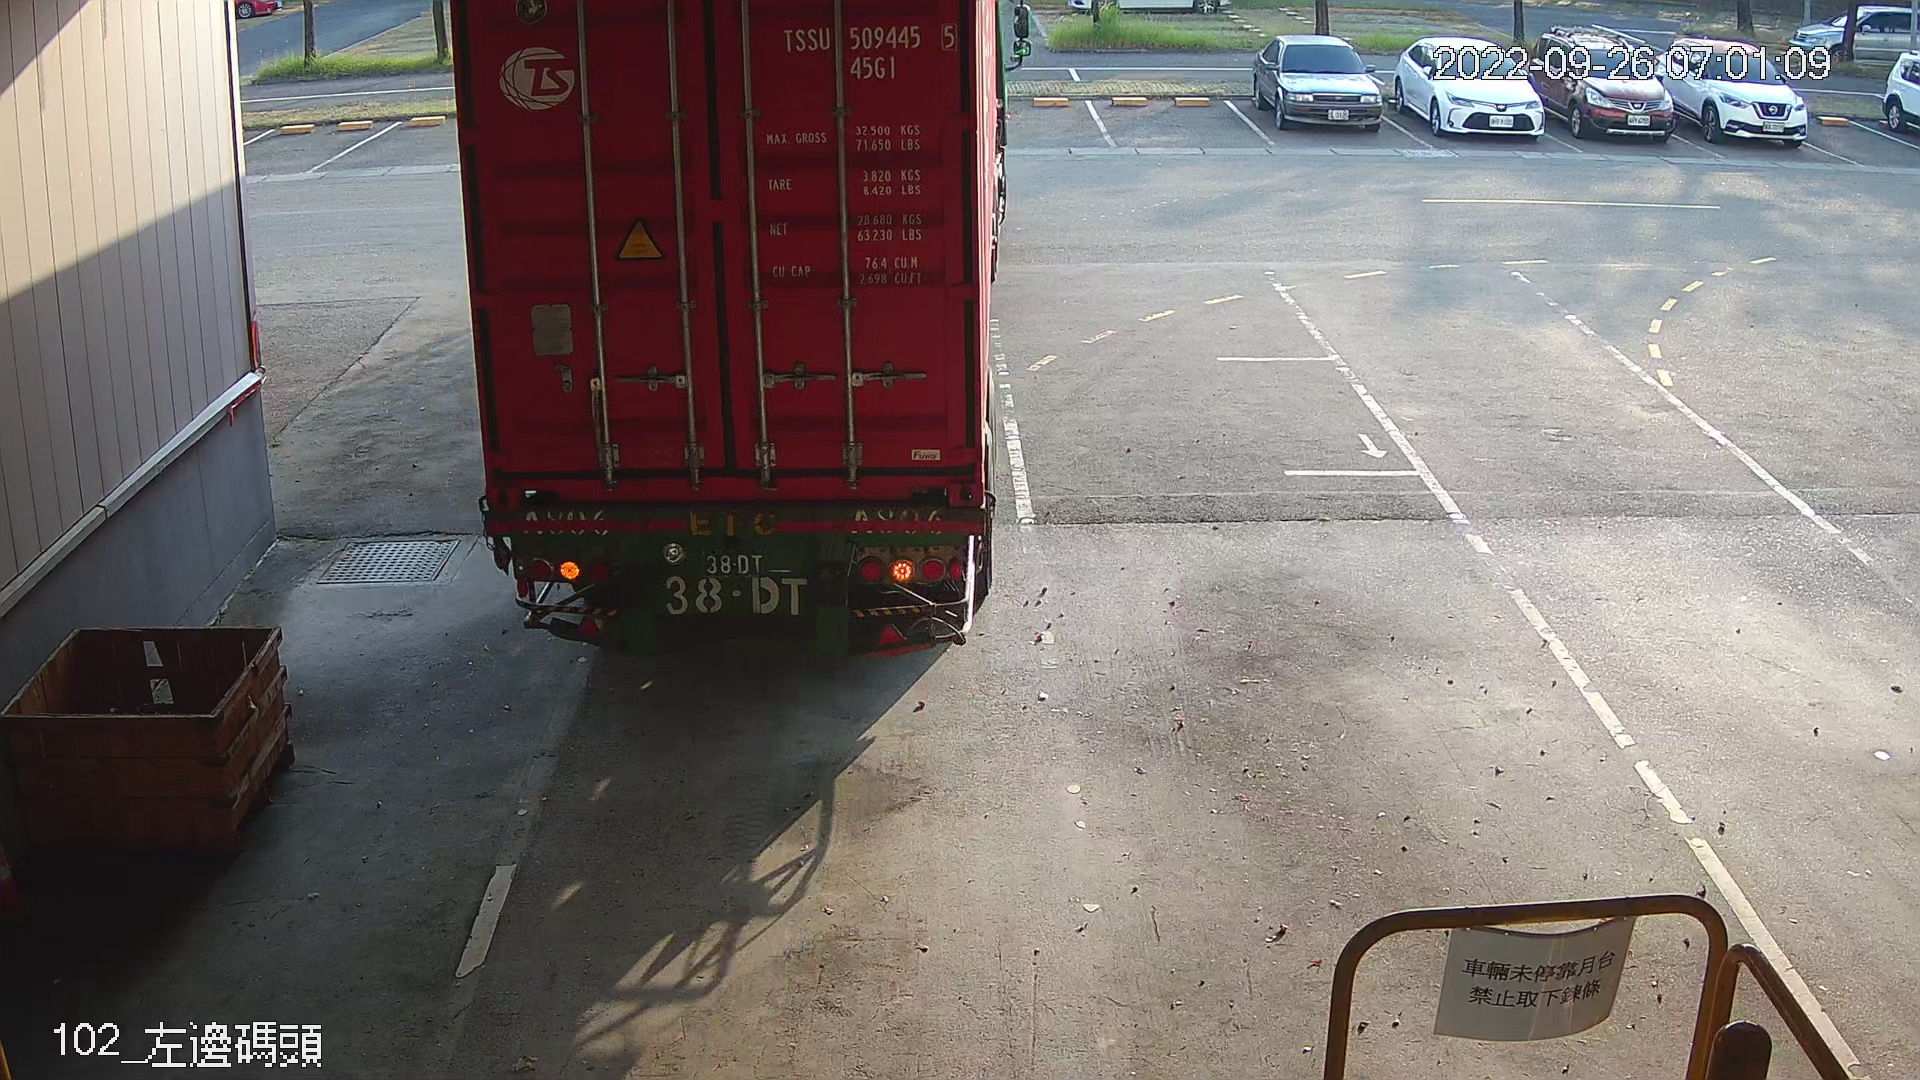container: (770, 15, 967, 88)
